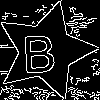B: (20, 26, 57, 73)
